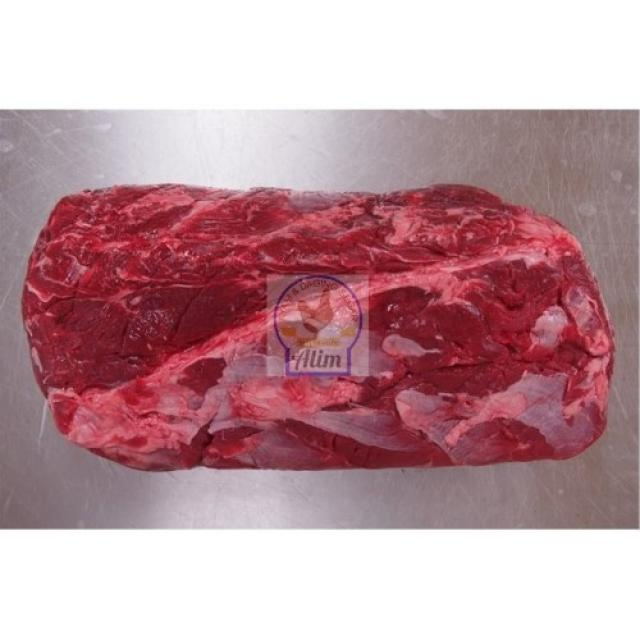beef: (12, 166, 630, 506)
